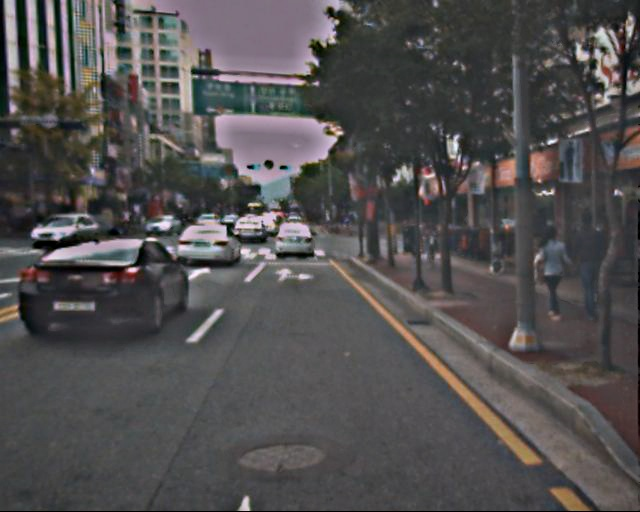person: (561, 210, 607, 323), (532, 228, 571, 323), (421, 218, 442, 270), (401, 220, 420, 257)
